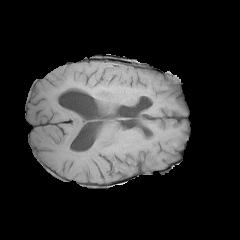glioma: (50, 64, 156, 103)
